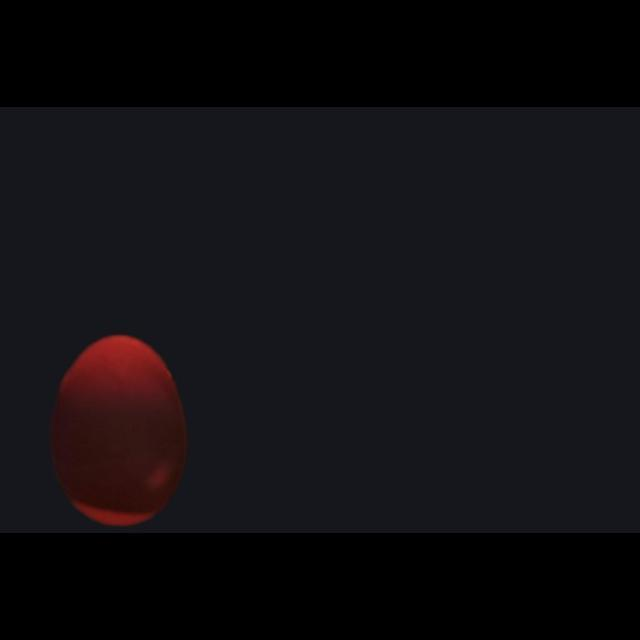Fertile: (51, 335, 188, 527)
